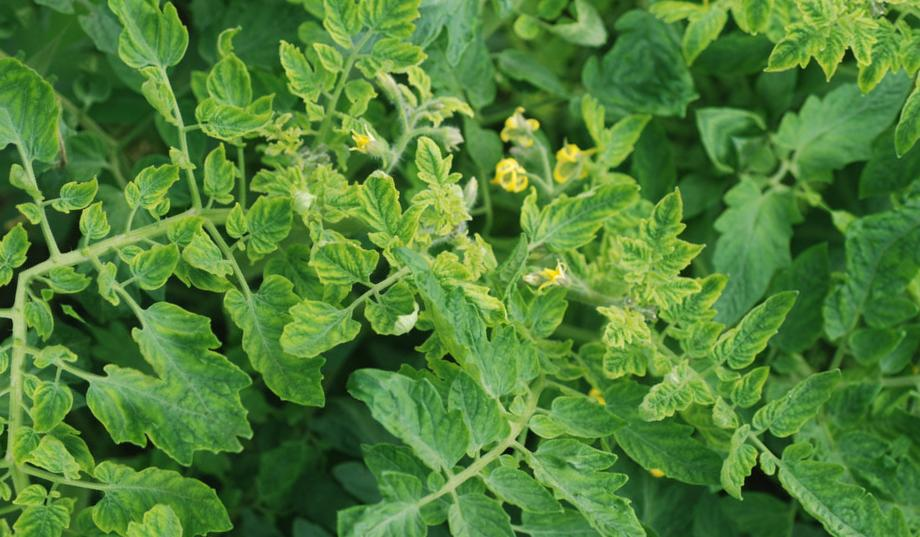Tomato leaf yellow virus: (194, 248, 381, 425), (377, 253, 558, 421), (116, 288, 296, 448), (336, 344, 491, 484), (522, 146, 646, 278), (0, 45, 106, 183), (67, 0, 233, 88), (706, 265, 813, 383), (756, 432, 872, 537), (566, 292, 673, 403), (208, 170, 315, 279), (265, 283, 367, 386), (337, 165, 436, 264), (536, 373, 636, 466), (618, 175, 708, 271), (296, 216, 389, 308), (185, 77, 275, 167), (413, 486, 559, 537), (698, 418, 782, 504), (343, 0, 457, 63), (295, 0, 393, 67), (353, 271, 431, 350), (622, 362, 699, 441), (258, 35, 338, 111), (38, 153, 113, 232), (183, 137, 258, 214), (512, 275, 585, 350), (121, 231, 191, 306), (116, 145, 186, 219), (399, 127, 469, 193), (68, 193, 127, 253), (0, 215, 47, 274)
